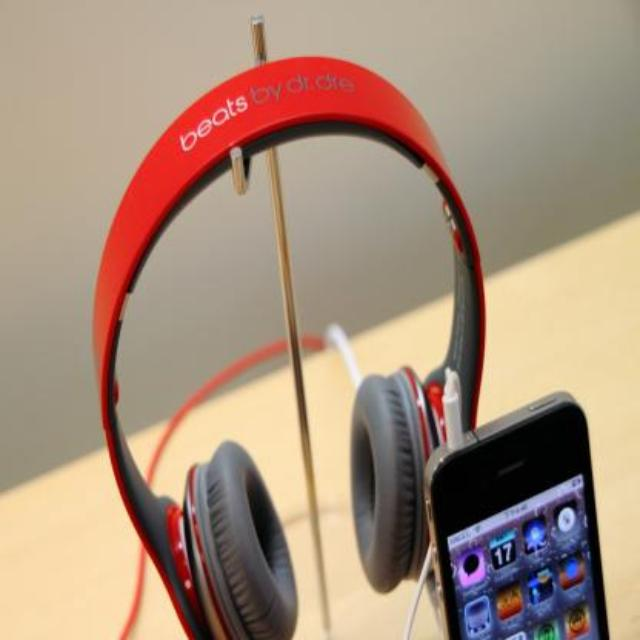Smartphone: (422, 400, 632, 640)
